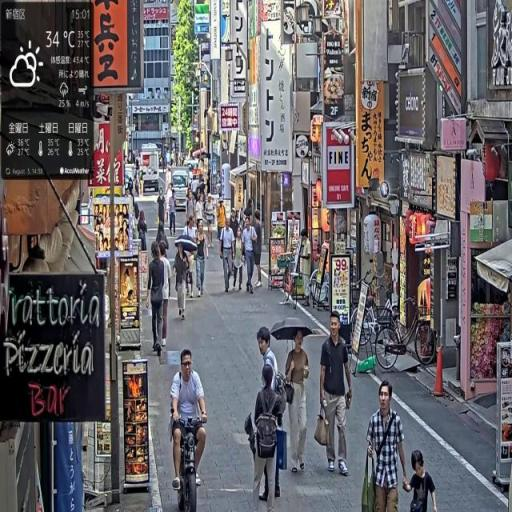person: (365, 380, 411, 512), (319, 312, 354, 480), (170, 350, 210, 487), (284, 327, 312, 475), (402, 449, 440, 512), (148, 242, 167, 360), (174, 240, 193, 323), (242, 214, 259, 294), (194, 219, 210, 301), (220, 218, 236, 293), (232, 226, 247, 292), (252, 208, 264, 289), (205, 194, 217, 253), (216, 199, 228, 254), (168, 185, 179, 237)
